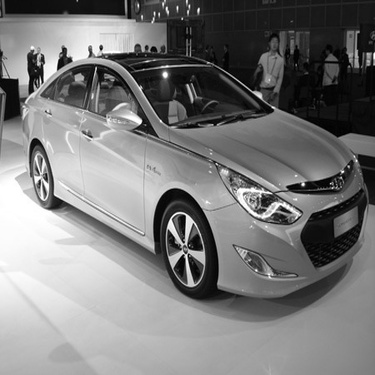car: (20, 39, 372, 302)
